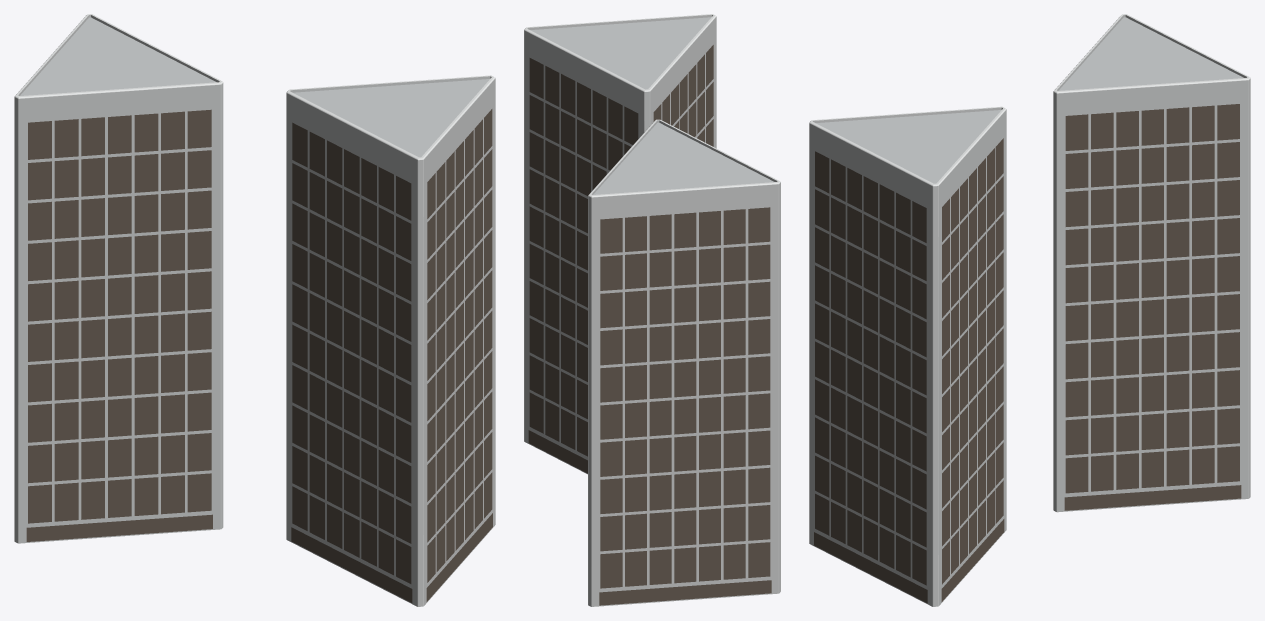
The model's file is detail.glb.
3 renders of one model, left to right at view 1: azimuth 30°, elevation 25°; view 2: azimuth 150°, elevation 25°; view 3: azimuth 270°, elevation 25°, orthographic. The views are drawn at different scales.
Visible parts, largest first — view 1: century-plaza-towers; view 2: century-plaza-towers; view 3: century-plaza-towers.
Part boxes in pixels (x1,y1,x2,y2): century-plaza-towers: (14, 14, 495, 606); century-plaza-towers: (524, 14, 780, 606); century-plaza-towers: (809, 14, 1250, 606).
Bounding box in the file's own units: 155 × 175 × 166.
